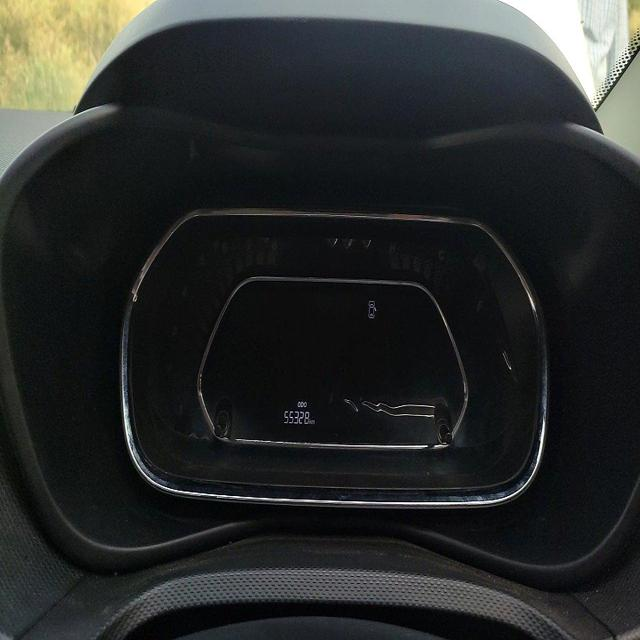odometer: (281, 406, 310, 426)
